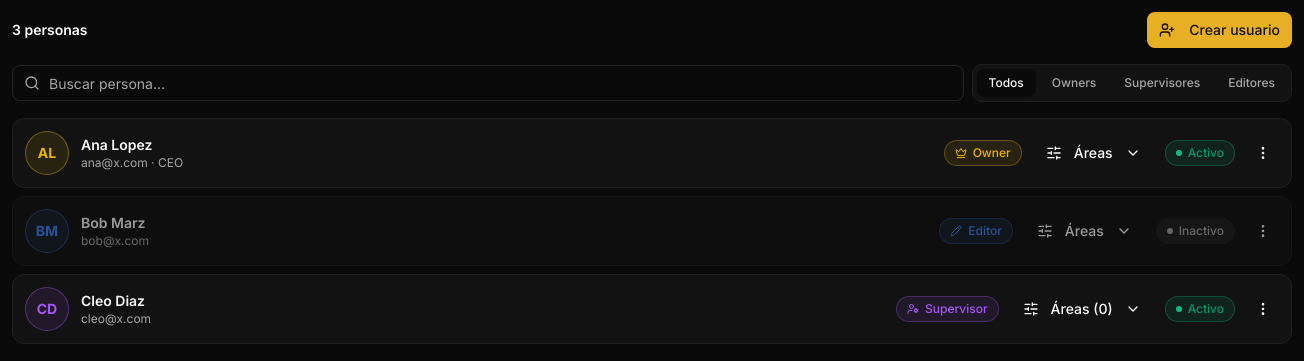
UserAdminTable › filters by search query (name or email)
This screenshot has width=1304, height=361.
Step 1. Type "bob" into the field with placeholder "Buscar persona…" → (488,83), box [12,65,964,101]
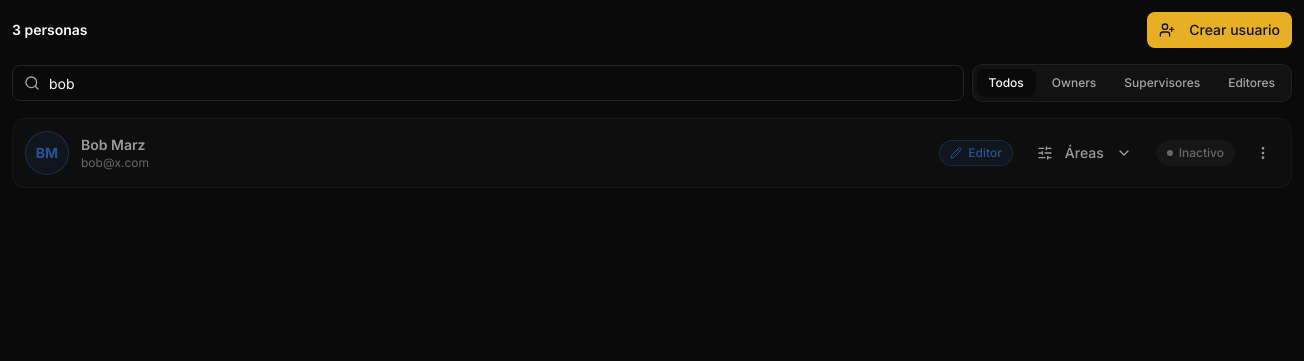
Expected: the text "Bob Marz" is shown, [81,136,146,153]
Now the text "Ana Lopez" is gone
